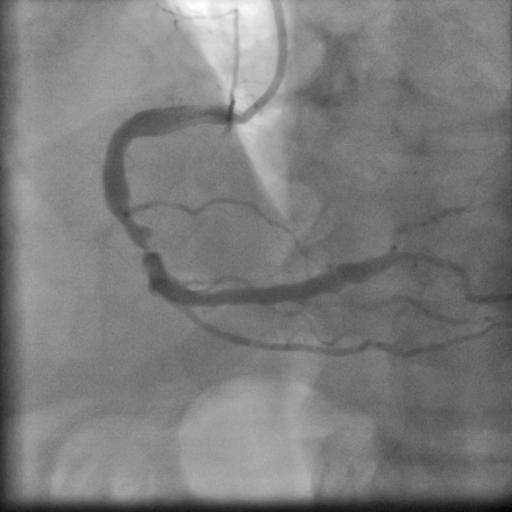Stenosis: (117, 221, 166, 261)
